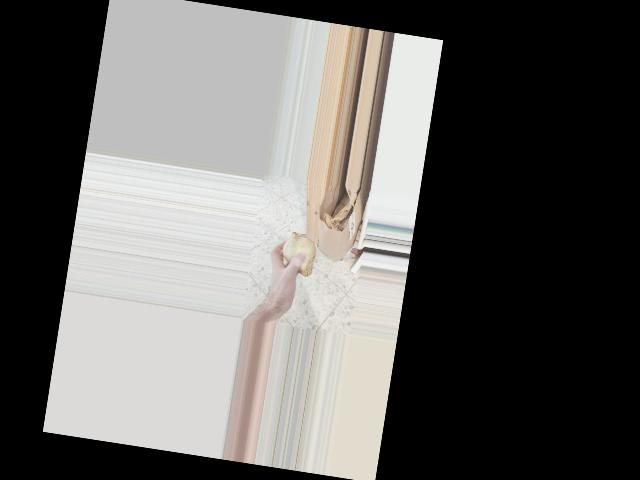onion: (275, 229, 320, 279)
